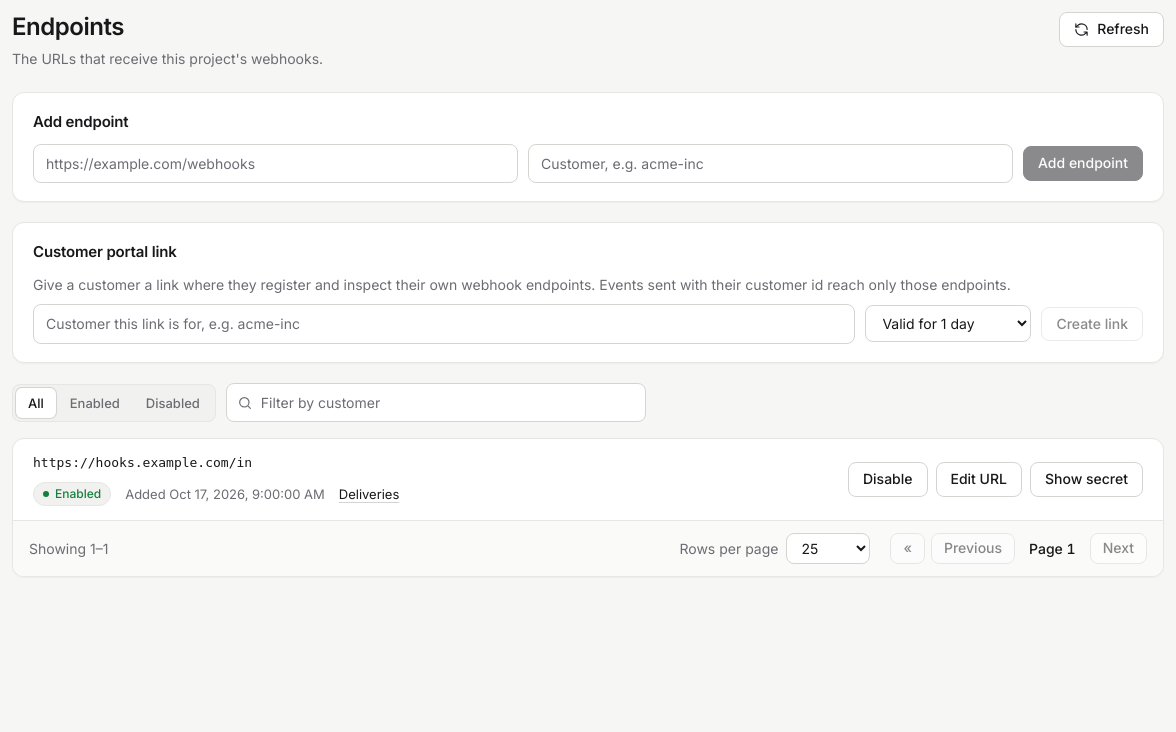
Test case: EndpointsPage › toggles an endpoint and reveals its secret on request
Click the button "Disable". click: (888, 480)
box: [848,462,928,497]
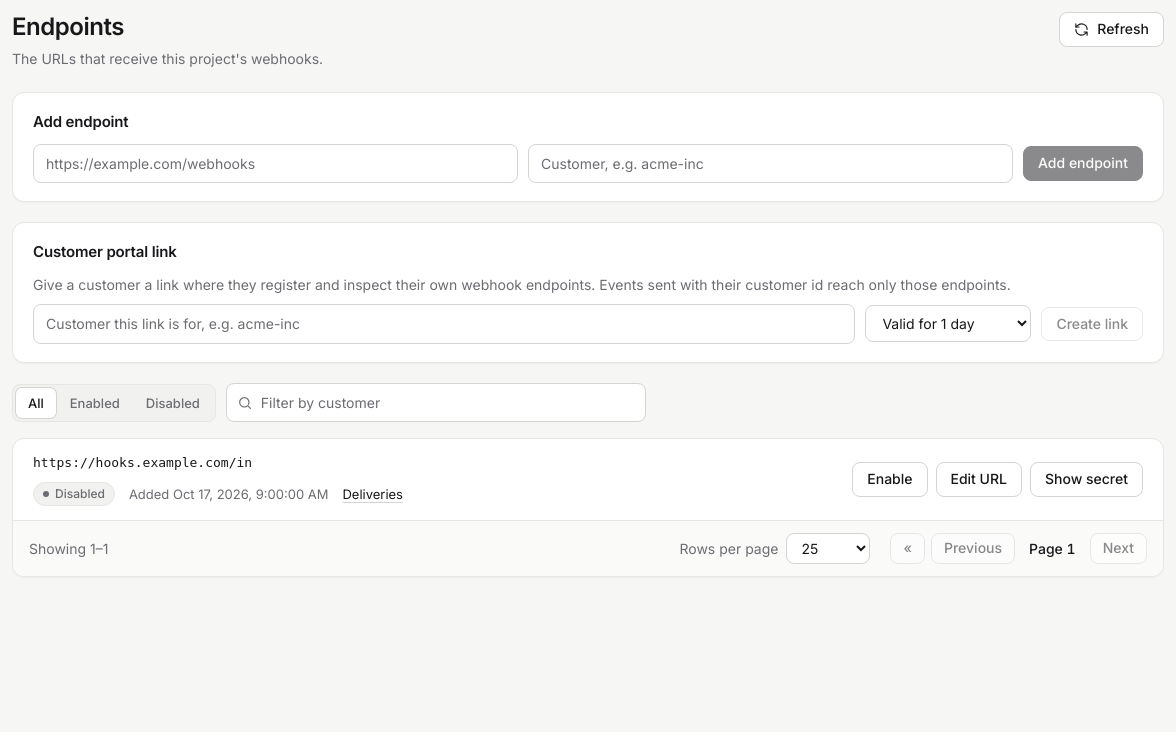
Expected: the text "whsec_revealed" is not shown
Now the button "Enable" is shown, box [852,462,928,497]
Click the button "Show secret". click: (1086, 480)
box: [1030,462,1143,497]
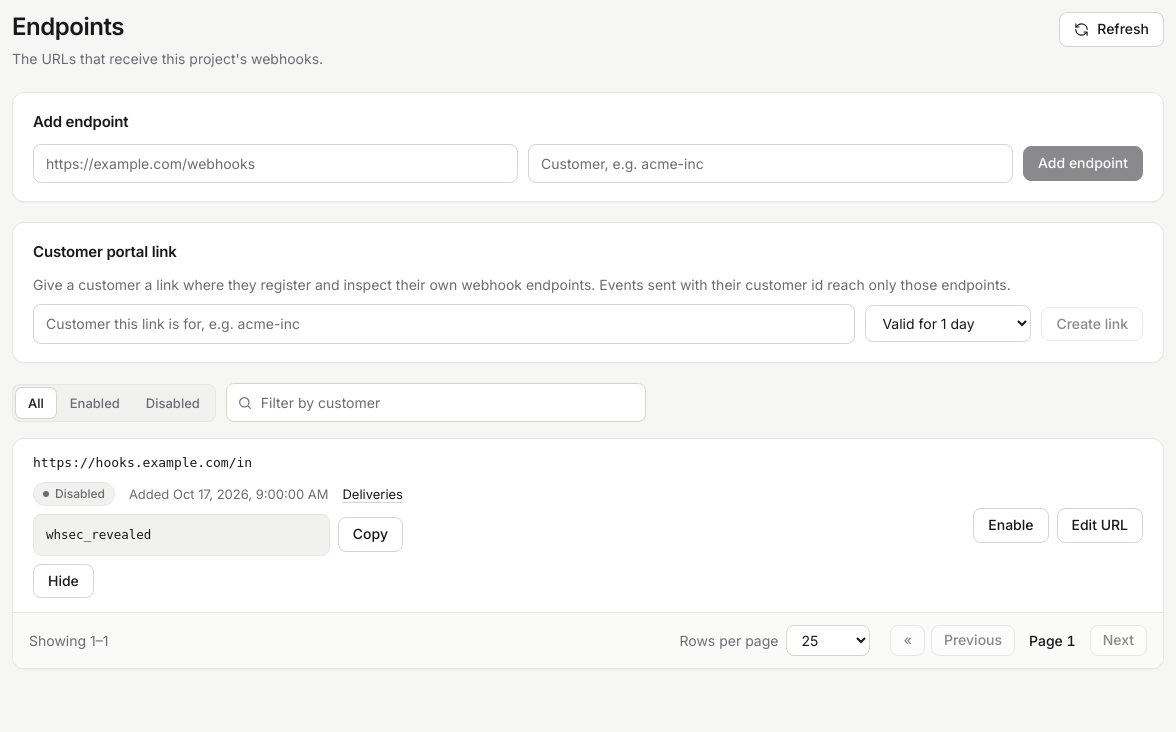
Now the text "whsec_revealed" is shown, box [33,514,330,556]
